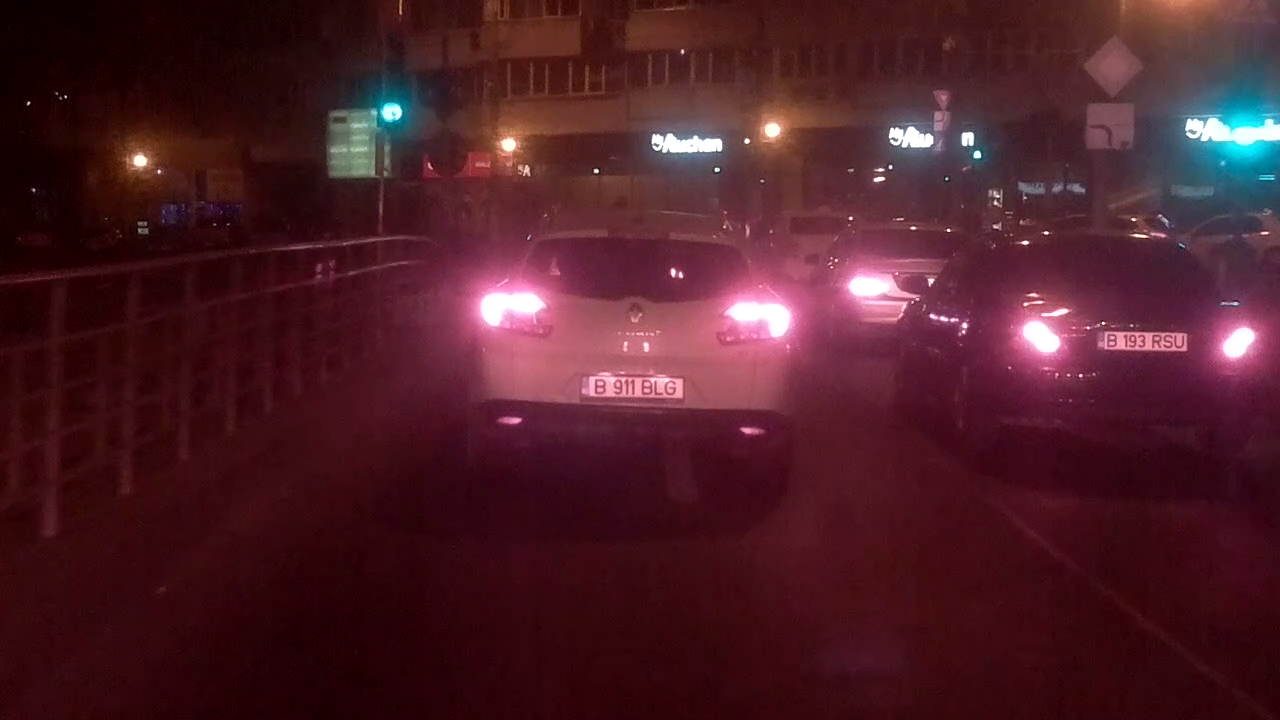license-plate: (576, 368, 689, 403), (1091, 324, 1192, 355)
